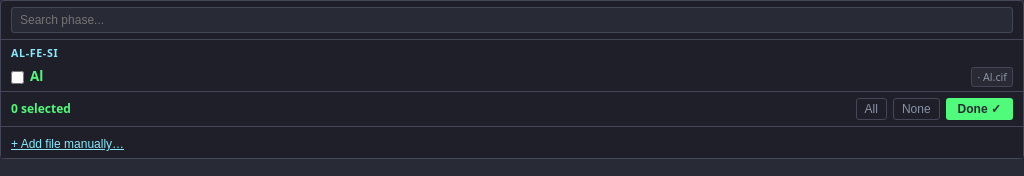
Test: what the phase dropdown says while the list is not there › but says "No matches" once the list is really there
This screenshot has width=1024, height=176.
In the field with placeholder "Search phase...": (512, 20) [11,7,1013,33], type "zzz"
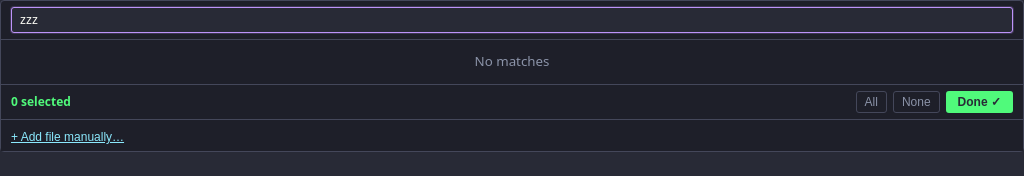
Expected: the text "No matches" is shown, [474,52,550,70]
